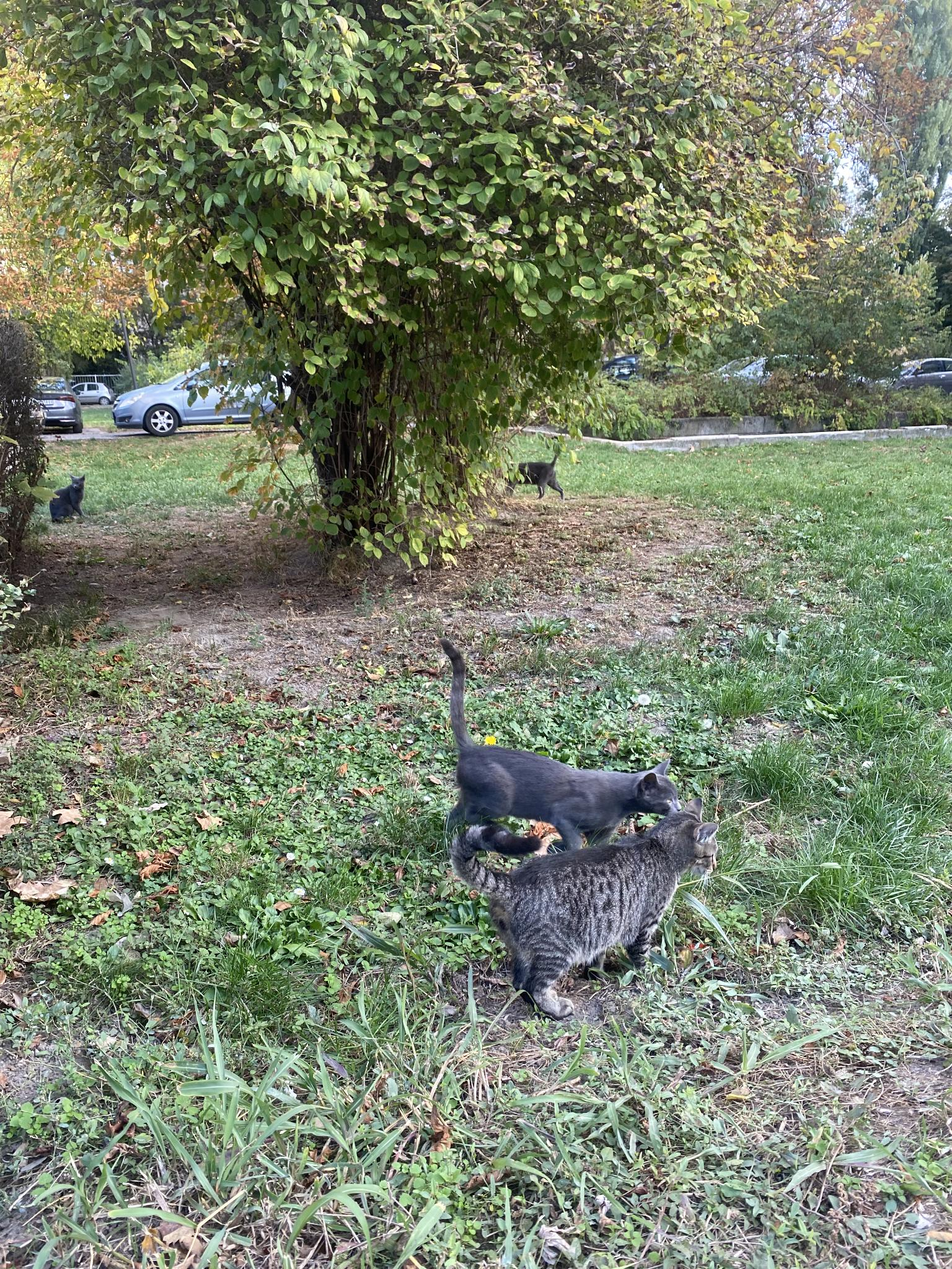macka: (452, 797, 719, 1018), (421, 636, 682, 850), (503, 436, 564, 500), (49, 474, 87, 522)
